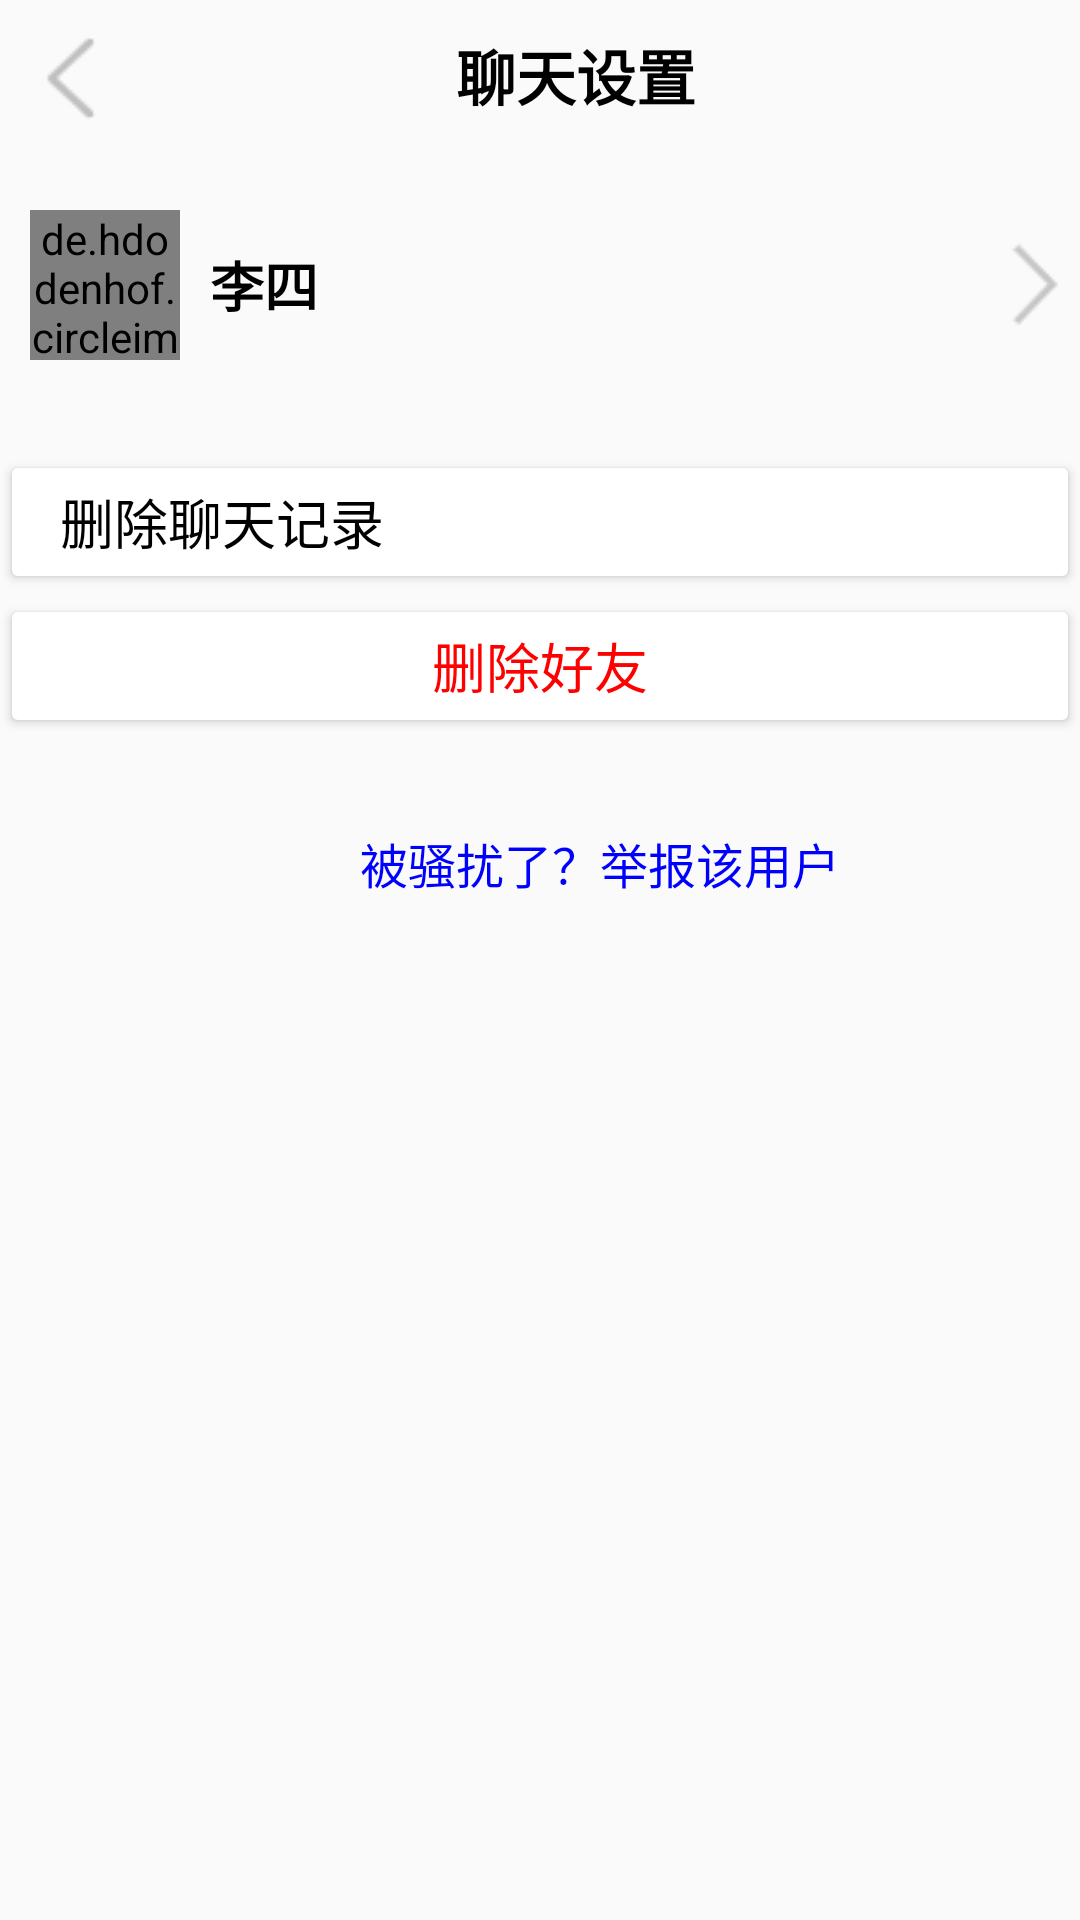

Screen size 1080px×1920px. Icon name, then its center in pixels as (x,y):
back: (70,78)
